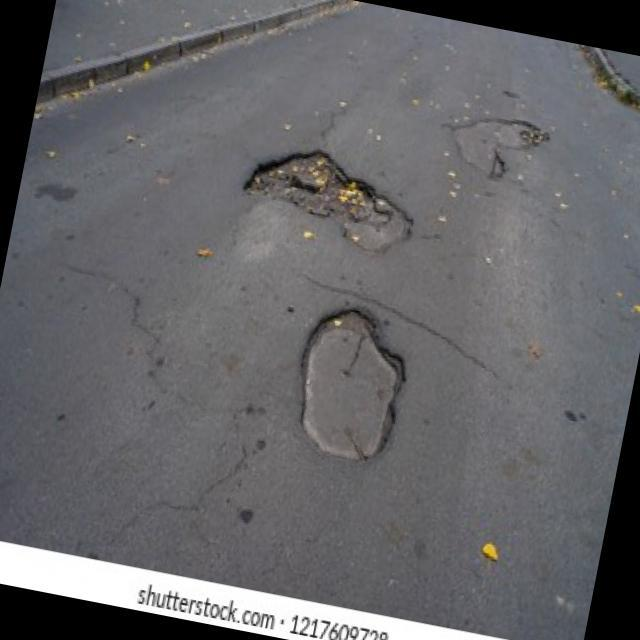Pothole: (232, 136, 425, 262), (283, 298, 422, 472), (438, 105, 546, 192)
